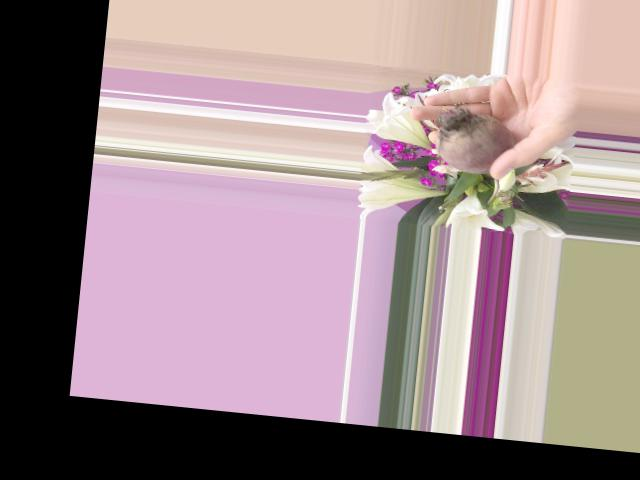beet: (428, 107, 515, 205)
